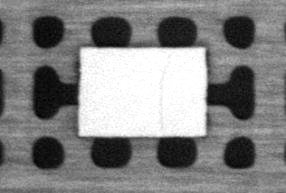DIE_CRACK: (158, 53, 174, 127)
